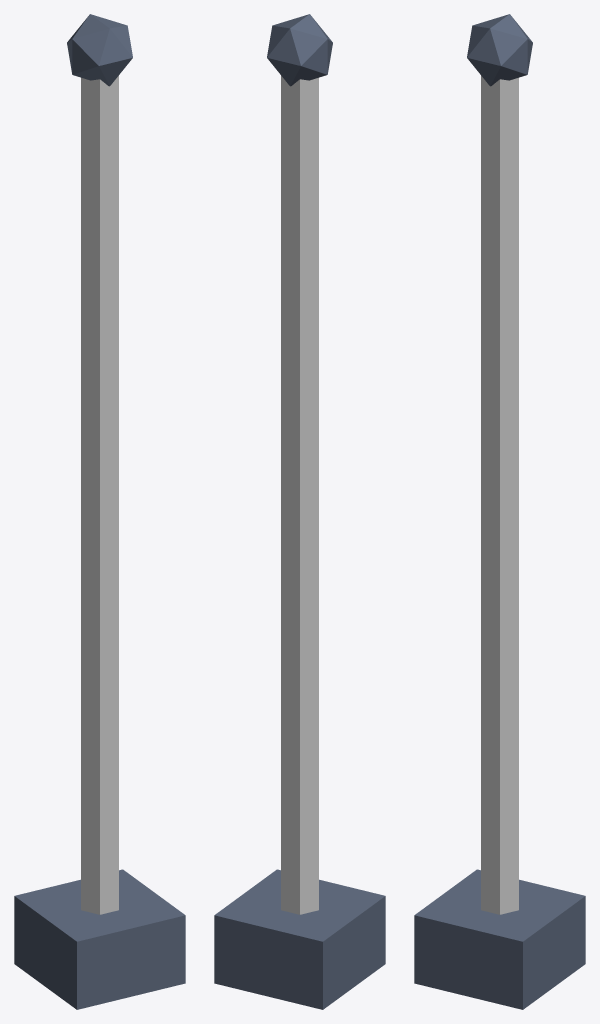
The model's file is flagpole.glb.
3 views of the same model, side by side, from view 1: azimuth 30°, elevation 25°; view 2: azimuth 150°, elevation 25°; view 3: azimuth 330°, elevation 25° (orthographic).
Visible parts, largest first — view 1: Pole, Foot, Knob; view 2: Pole, Foot, Knob; view 3: Pole, Foot, Knob.
Part boxes in pixels (x1,y1,x2,y2): Pole: (81, 75, 118, 914); Foot: (14, 869, 185, 1009); Knob: (67, 14, 132, 86); Pole: (281, 75, 318, 914); Foot: (214, 869, 385, 1009); Knob: (267, 14, 332, 86); Pole: (481, 75, 518, 914); Foot: (414, 869, 585, 1009); Knob: (467, 14, 532, 86).
Size of the model in its own units: 0.4 by 3.35 by 0.4.
